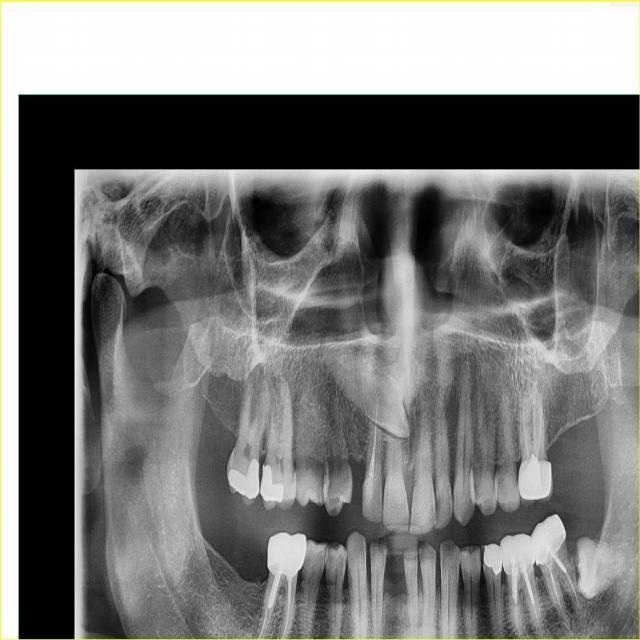71: (540, 537, 570, 576), (517, 552, 536, 606), (266, 562, 284, 609), (509, 549, 517, 599), (512, 559, 518, 604)
74: (546, 561, 567, 623), (368, 398, 378, 476), (282, 575, 293, 638), (520, 396, 530, 460), (535, 401, 545, 460), (565, 571, 581, 606), (530, 389, 537, 453), (258, 603, 270, 638), (532, 604, 542, 637)
NucleOSS Implant: (225, 459, 271, 504), (259, 463, 282, 502), (483, 543, 502, 575)
Sterngold Implant: (434, 494, 443, 525), (480, 545, 484, 564)
Straumann Implant: (360, 475, 374, 519)
Zimmer Implant: (519, 510, 576, 568), (264, 530, 308, 579), (498, 531, 536, 576), (517, 461, 551, 508)
